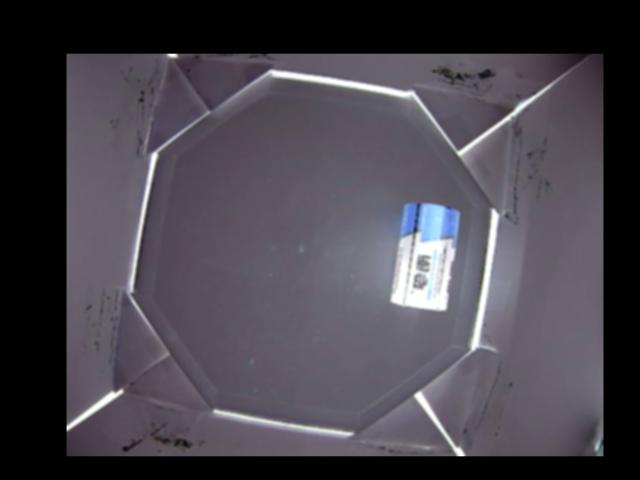Battery: (390, 201, 461, 311)
